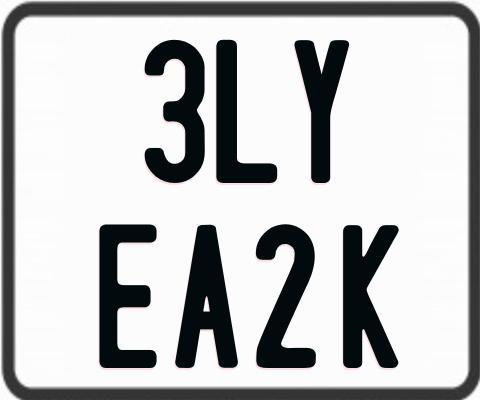2: (256, 221, 321, 365)
3: (143, 38, 205, 183)
A: (173, 223, 240, 366)
E: (97, 222, 156, 372)
K: (343, 225, 401, 369)
L: (216, 40, 282, 183)
Y: (292, 37, 353, 184)
